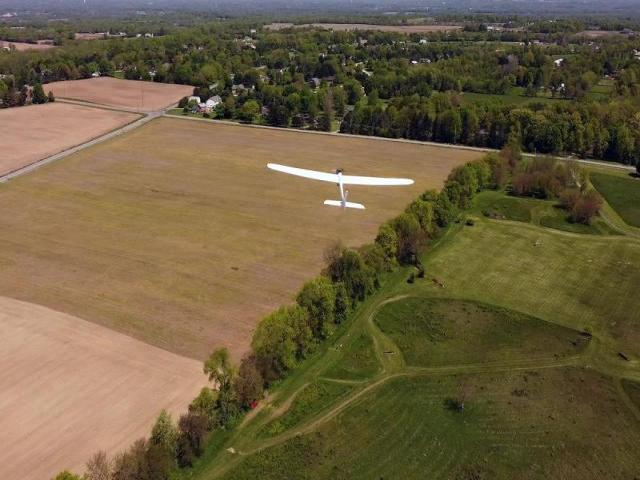hedef: (255, 156, 427, 222)
